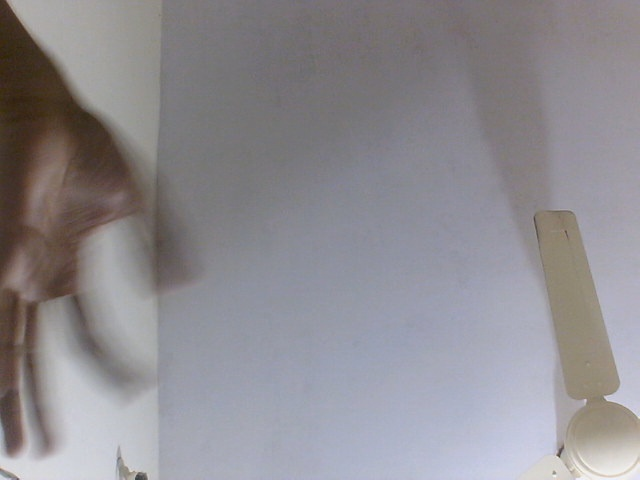hand: (1, 84, 202, 464)
